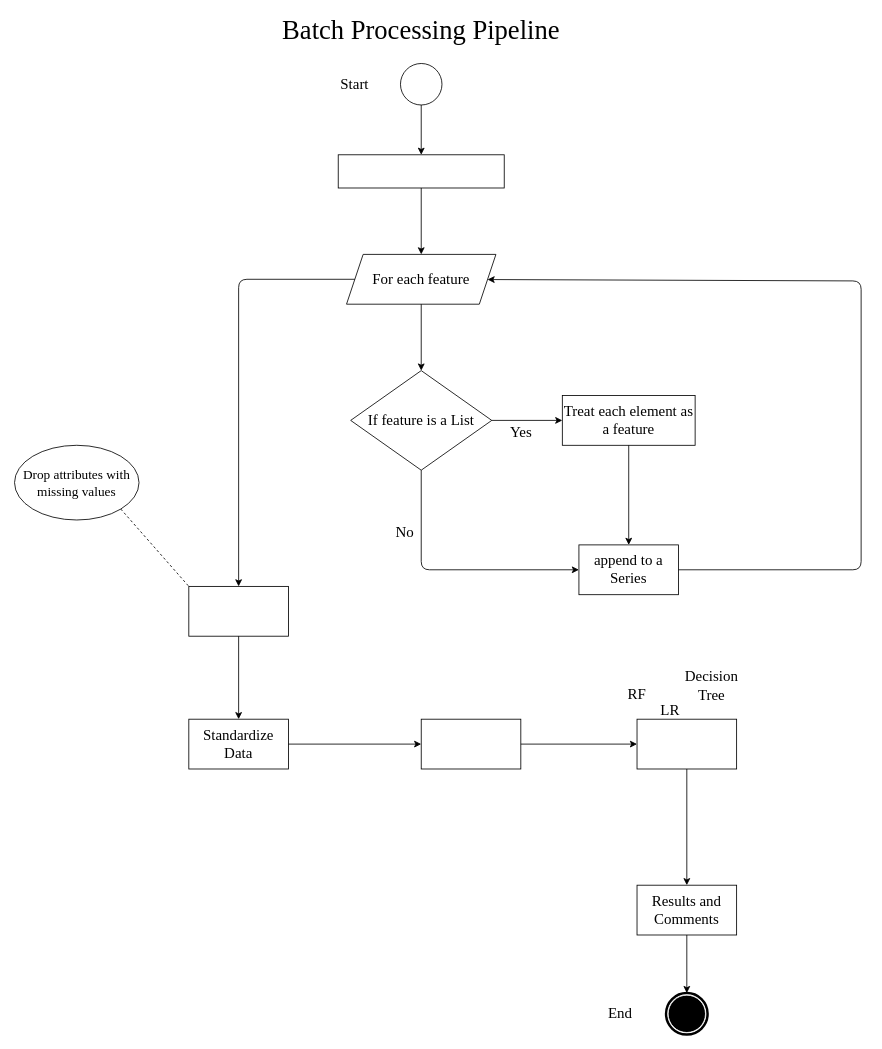
Some shapes in this 882 by 1049 pixel diagram are drawn without their labels. The centre of each missing label's shape, as x and y in pixels:
"Encode Labels" goes at pixel 470 743.
"Fit a Classifier" goes at pixel 686 743.
"Handle missing Values" goes at pixel 238 611.
"Load from Database" goes at pixel 420 171.
